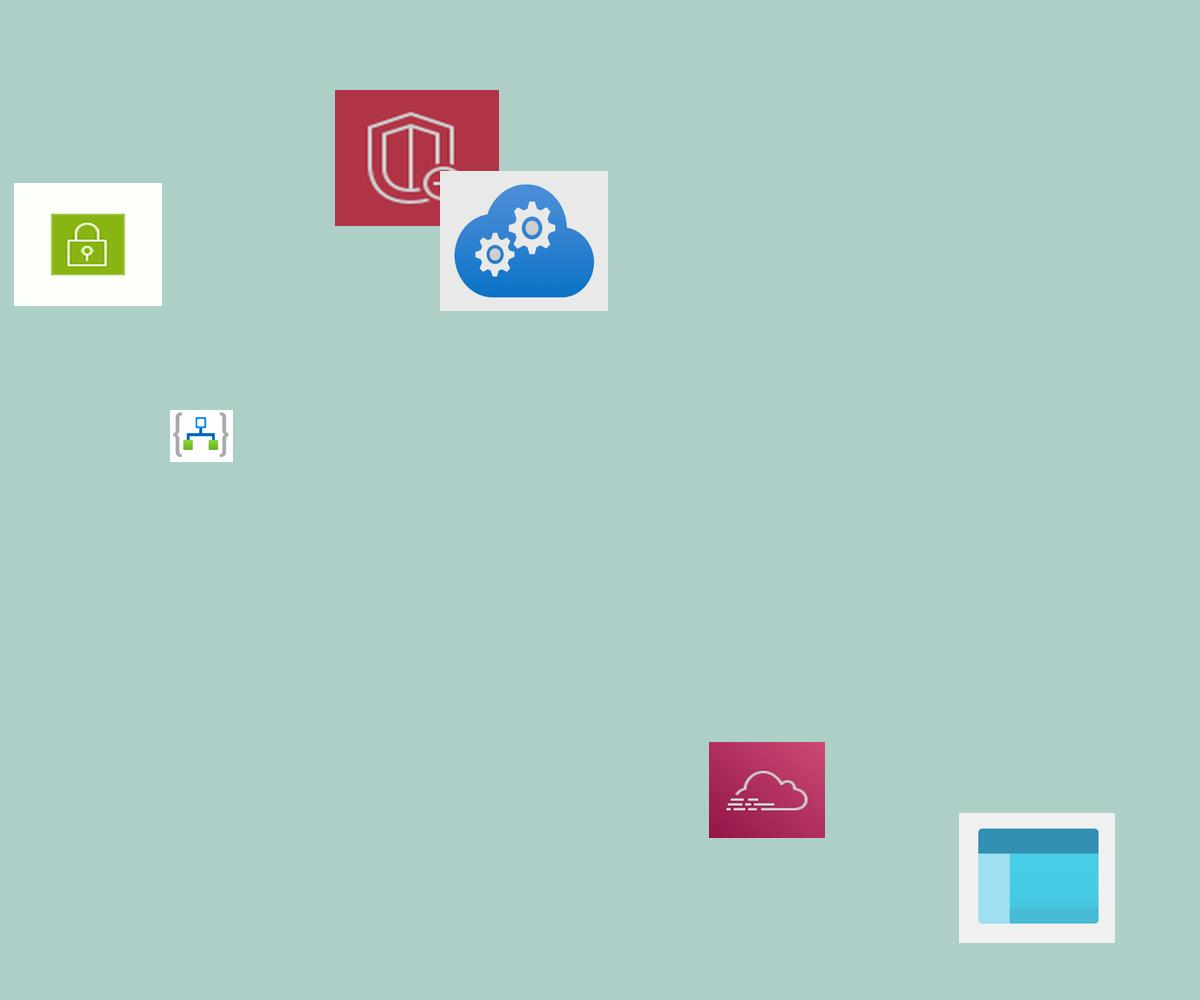AWS-CloudTrail: (709, 742, 825, 838)
AWS-Public-subnet: (14, 183, 162, 306)
AWS-Shield: (335, 90, 499, 226)
Azure_cloud_services: (440, 171, 608, 311)
Azure_integration-204-Logic-Apps: (170, 410, 233, 462)
Azure_management-portal: (959, 813, 1115, 943)
